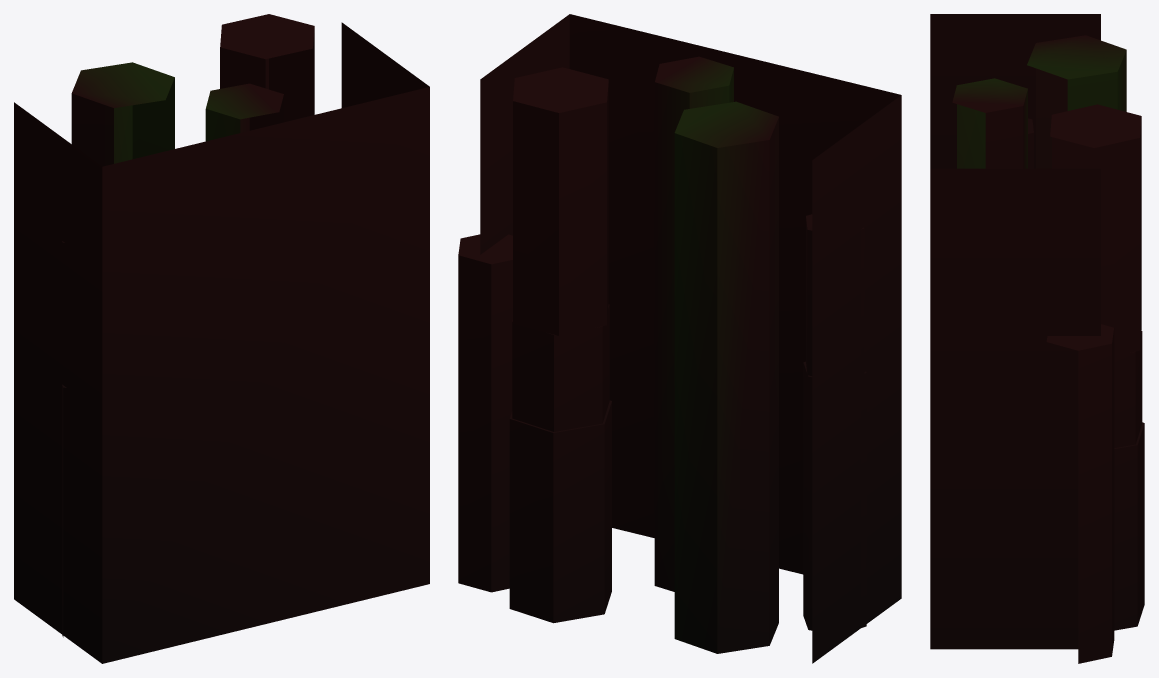
Rendered from tf_basalt_columns_m_8m.glb.
The picture shows the model from 3 angles, left to right: view 1: azimuth 30°, elevation 25°; view 2: azimuth 150°, elevation 25°; view 3: azimuth 270°, elevation 25°; orthographic projection. The views are drawn at different scales.
Visible parts, largest first — view 1: tf_basalt_columns_m_8m; view 2: tf_basalt_columns_m_8m; view 3: tf_basalt_columns_m_8m.
Part boxes in pixels (x1,y1,x2,y2): tf_basalt_columns_m_8m: [14, 14, 429, 663]; tf_basalt_columns_m_8m: [458, 14, 901, 663]; tf_basalt_columns_m_8m: [930, 14, 1144, 663].
Size of what is drawn, in the model's own units: 6.62 by 8.81 by 3.52.
